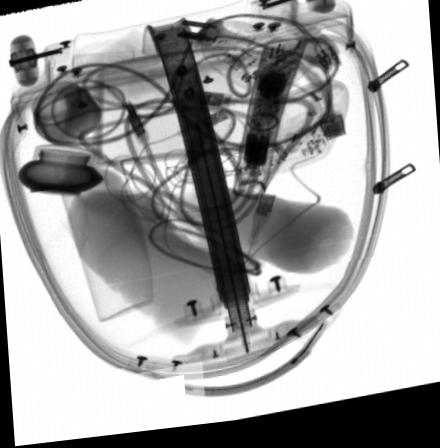Baton: (233, 42, 307, 206)
